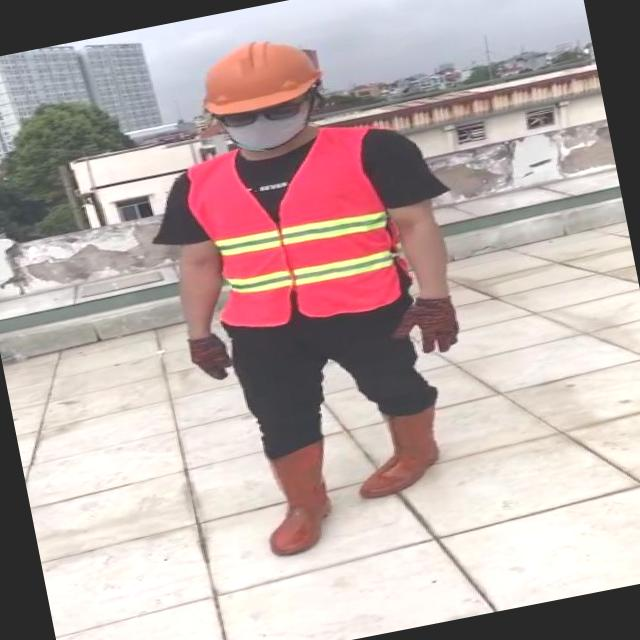boots: (254, 439, 346, 559), (345, 404, 453, 501)
helmet: (186, 24, 332, 124)
vest: (185, 120, 412, 338)
